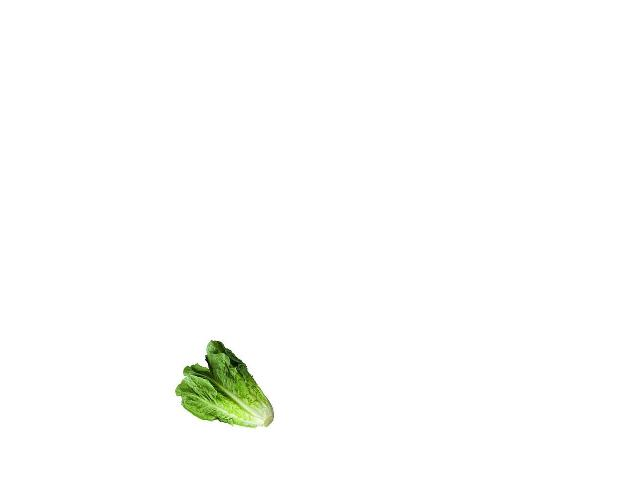lettuce: (176, 335, 270, 432)
